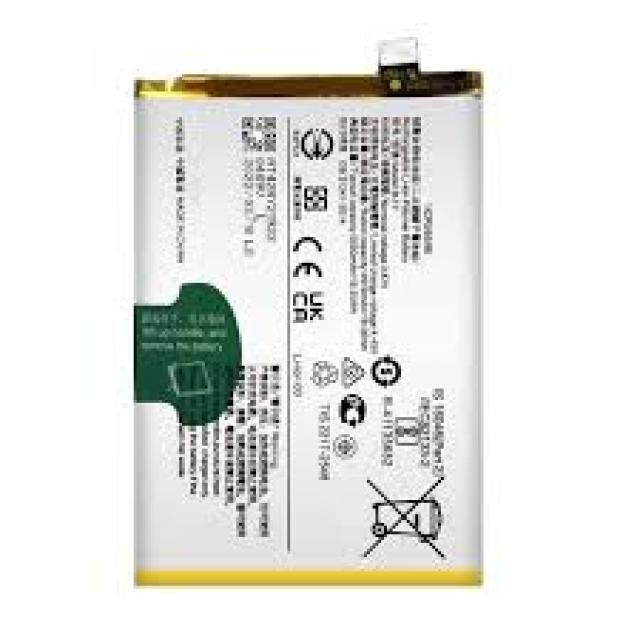Battery: (119, 37, 481, 583)
